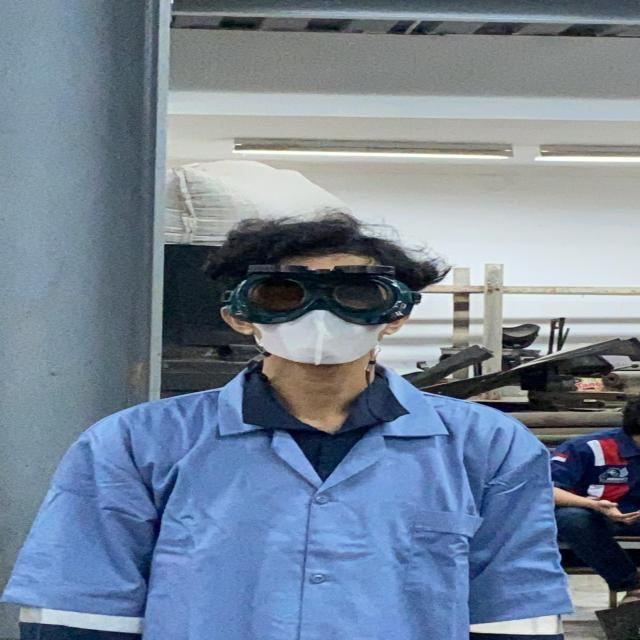glasses: (212, 258, 429, 326)
